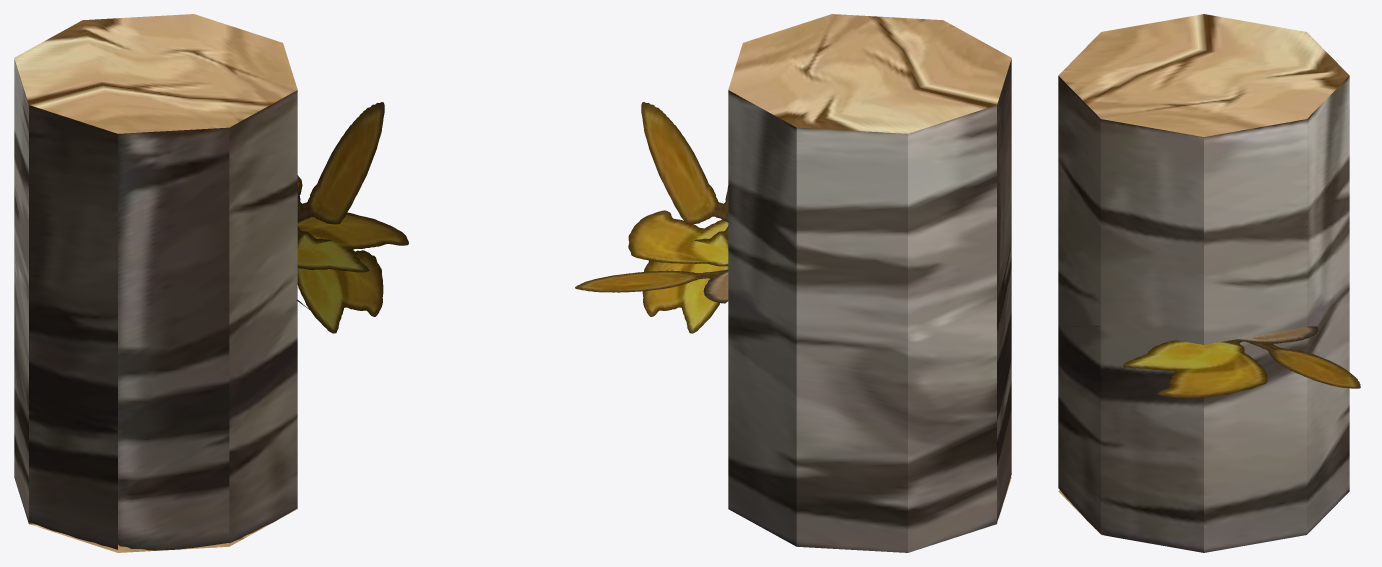
The model's file is birch_drop.fbx.
The picture shows the model from 3 angles, left to right: view 1: azimuth 30°, elevation 25°; view 2: azimuth 150°, elevation 25°; view 3: azimuth 270°, elevation 25°; orthographic projection.
Parts seen in each view (by area): view 1: birch_drop; view 2: birch_drop; view 3: birch_drop.
Part boxes in pixels (x1=…): birch_drop: x1=14, y1=14, x2=408, y2=552; birch_drop: x1=575, y1=14, x2=1011, y2=552; birch_drop: x1=1058, y1=14, x2=1360, y2=552.
Size of the model in its own units: 305 by 315 by 225.
